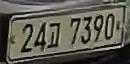0: (105, 11, 116, 40)
2: (20, 22, 34, 54)
3: (81, 14, 93, 46)
4: (33, 19, 47, 53)
7: (68, 16, 81, 46)
9: (92, 13, 105, 43)
고: (47, 21, 64, 49)
